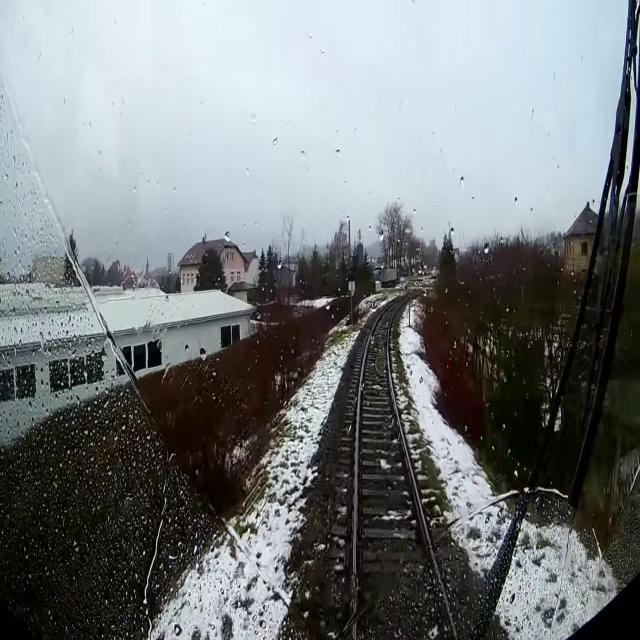rail-track: (358, 299, 452, 639)
